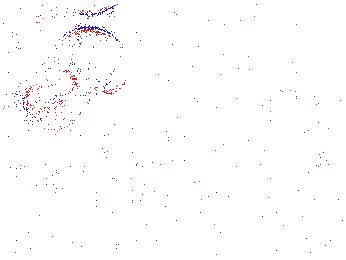moon jellyfish: (246, 91, 331, 175), (52, 27, 129, 95), (21, 74, 87, 132), (1, 16, 48, 96), (149, 41, 236, 81)
